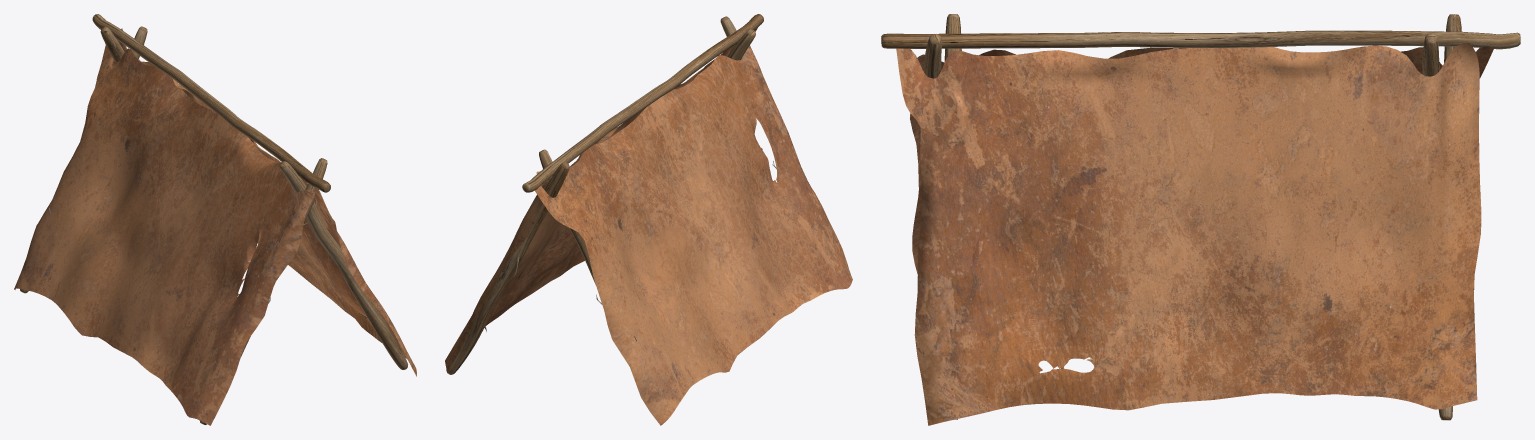
Rendered from Refuge.fbx.
3 views of the same model, side by side, from view 1: azimuth 30°, elevation 25°; view 2: azimuth 150°, elevation 25°; view 3: azimuth 270°, elevation 25° (orthographic). The views are drawn at different scales.
Visible parts, largest first — view 1: Refuge:Leather_1, Refuge:Leather_2, Refuge:Horizontal_Wood, Refuge:Diagonal_Wood4, Refuge:Diagonal_Wood2, Refuge:Diagonal_Wood3; view 2: Refuge:Leather_1, Refuge:Leather_2, Refuge:Horizontal_Wood, Refuge:Diagonal_Wood2, Refuge:Diagonal_Wood1, Refuge:Diagonal_Wood4; view 3: Refuge:Leather_2, Refuge:Horizontal_Wood, Refuge:Leather_1, Refuge:Diagonal_Wood3, Refuge:Diagonal_Wood1.
Boxes of the visible parts, bbox=[...] form: Refuge:Leather_1: bbox=[14, 45, 315, 425]; Refuge:Leather_2: bbox=[117, 28, 416, 376]; Refuge:Horizontal_Wood: bbox=[92, 14, 330, 192]; Refuge:Diagonal_Wood4: bbox=[279, 161, 407, 369]; Refuge:Diagonal_Wood2: bbox=[100, 27, 124, 62]; Refuge:Diagonal_Wood3: bbox=[200, 158, 327, 424]; Refuge:Leather_1: bbox=[535, 45, 852, 425]; Refuge:Leather_2: bbox=[445, 28, 757, 372]; Refuge:Horizontal_Wood: bbox=[522, 14, 763, 192]; Refuge:Diagonal_Wood2: bbox=[446, 162, 569, 374]; Refuge:Diagonal_Wood1: bbox=[539, 149, 636, 341]; Refuge:Diagonal_Wood4: bbox=[727, 29, 755, 60]; Refuge:Leather_2: bbox=[896, 43, 1481, 425]; Refuge:Horizontal_Wood: bbox=[881, 30, 1520, 49]; Refuge:Leather_1: bbox=[910, 46, 1494, 274]; Refuge:Diagonal_Wood3: bbox=[923, 34, 941, 78]; Refuge:Diagonal_Wood1: bbox=[1422, 33, 1439, 76].
Size of the model in its own units: 1.89 by 1.93 by 3.39.
